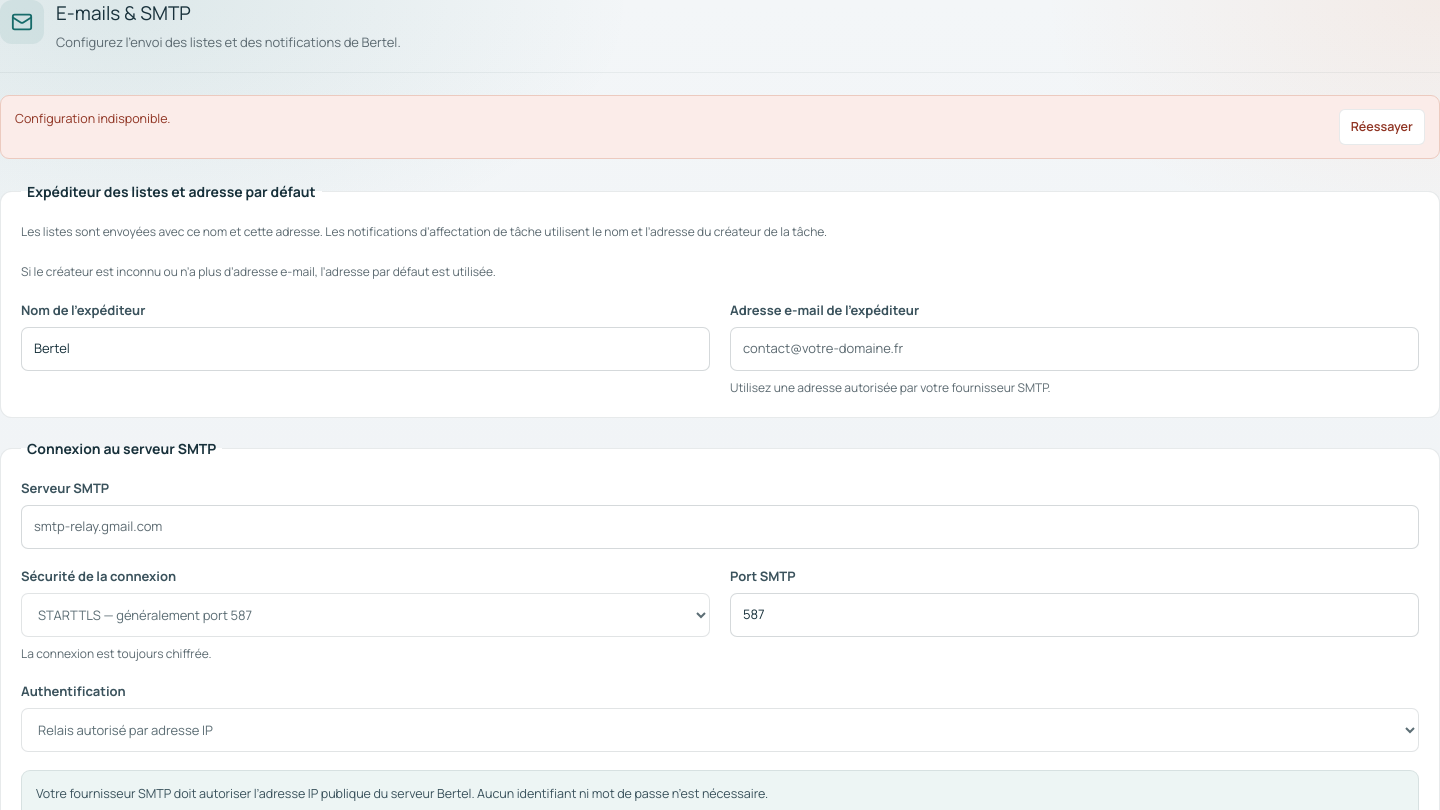
Test: affiche une erreur de chargement et bloque la sauvegarde jusqu’à une nouvelle lecture réussie
The width and height of the screenshot is (1440, 810).
Expected: the message shows "Configuration indisponible.", [15, 110, 170, 127]
Click the button "Réessayer" at (1382, 127), box [1338, 109, 1425, 145]
(page scrolled)
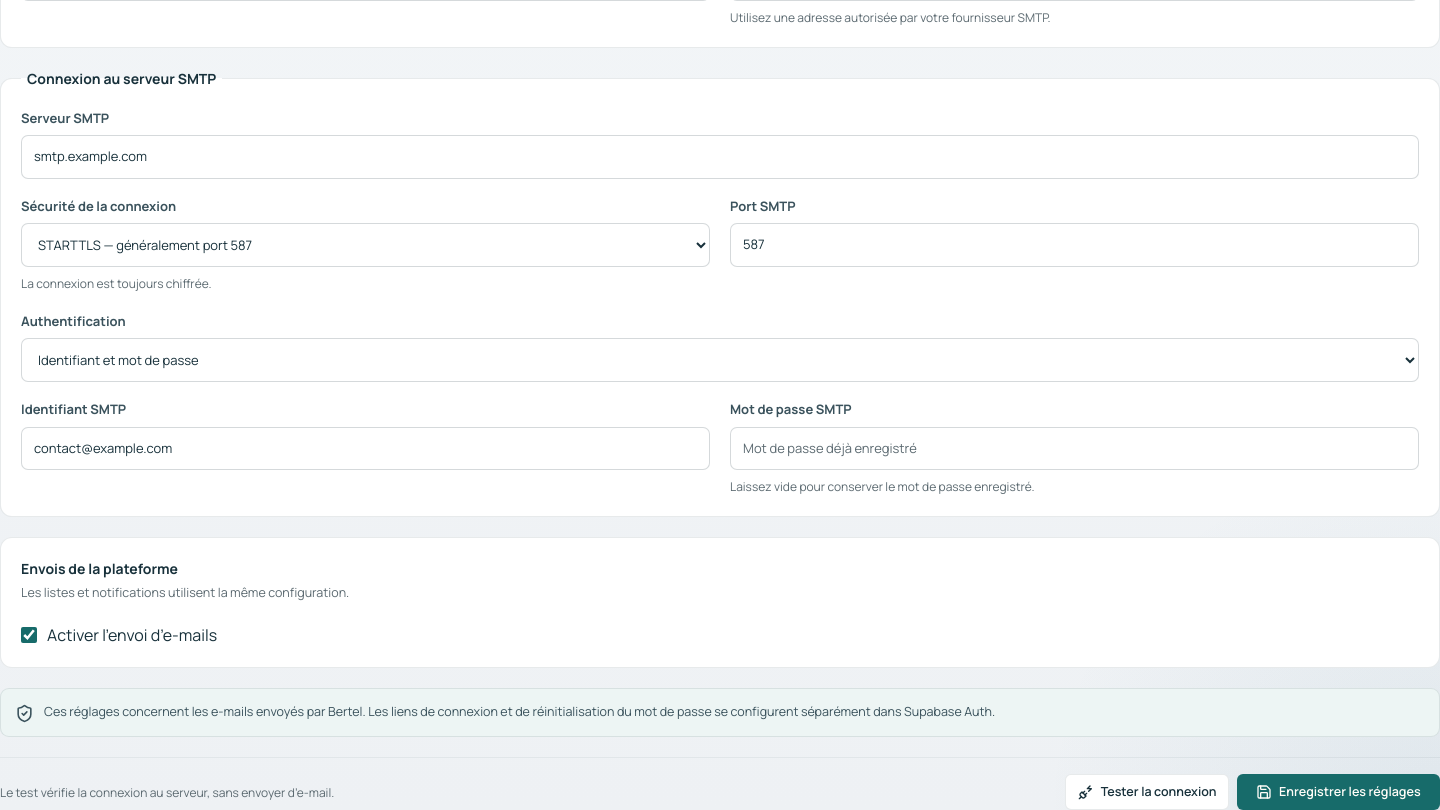
Result: the field showing "smtp.example.com" is shown at [21, 136, 1419, 179]
Result: the button "Tester la connexion" is enabled at [1066, 774, 1229, 809]
